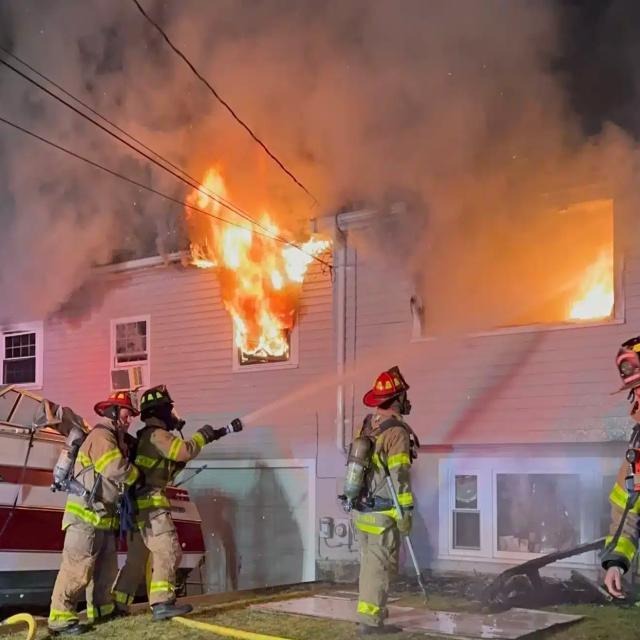Fire: (185, 164, 335, 358), (563, 247, 614, 319)
Smoke: (0, 0, 640, 333)
